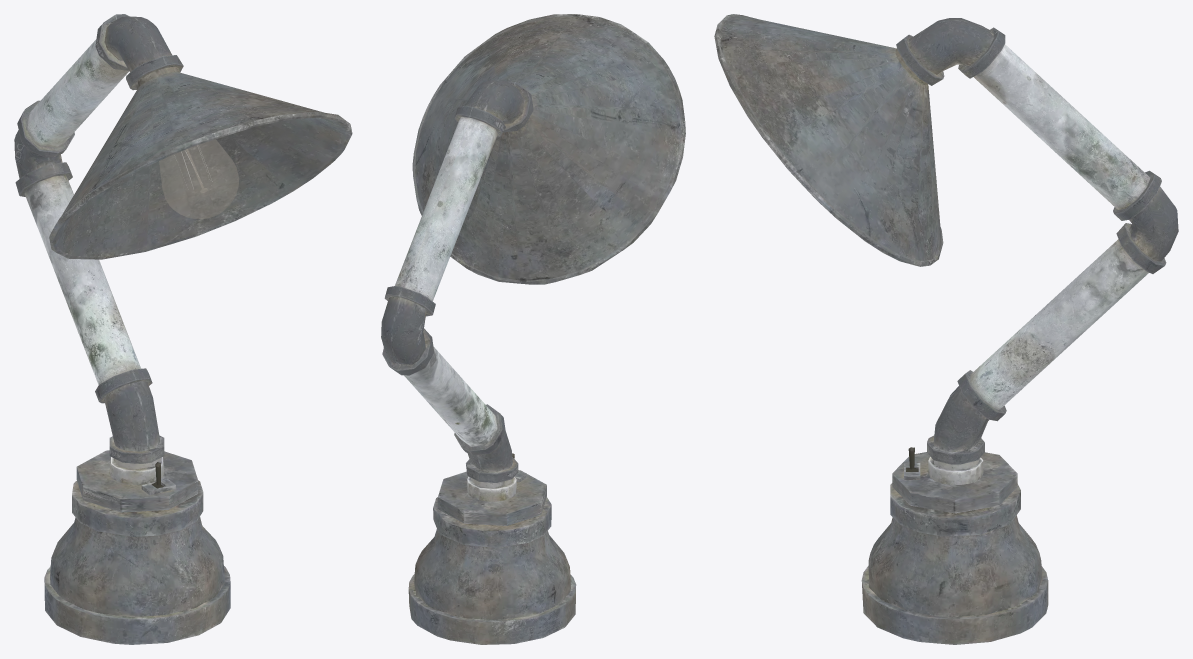
File: industrial_pipe_lamp.glb
3 views of the same model, side by side, from view 1: azimuth 30°, elevation 25°; view 2: azimuth 150°, elevation 25°; view 3: azimuth 270°, elevation 25° (orthographic). The views are drawn at different scales.
Visible parts, largest first — view 1: industrial_pipe_lamp, industrial_pipe_lamp_bulb; view 2: industrial_pipe_lamp; view 3: industrial_pipe_lamp.
Part boxes in pixels (bbox=[...]): industrial_pipe_lamp: bbox=[14, 14, 352, 644]; industrial_pipe_lamp_bulb: bbox=[159, 139, 238, 218]; industrial_pipe_lamp: bbox=[381, 14, 685, 644]; industrial_pipe_lamp: bbox=[714, 14, 1178, 644].
Bounding box in the file's own units: 0.1826 × 0.3641 × 0.2617.
Materials: 2 (2 with a texture image).
